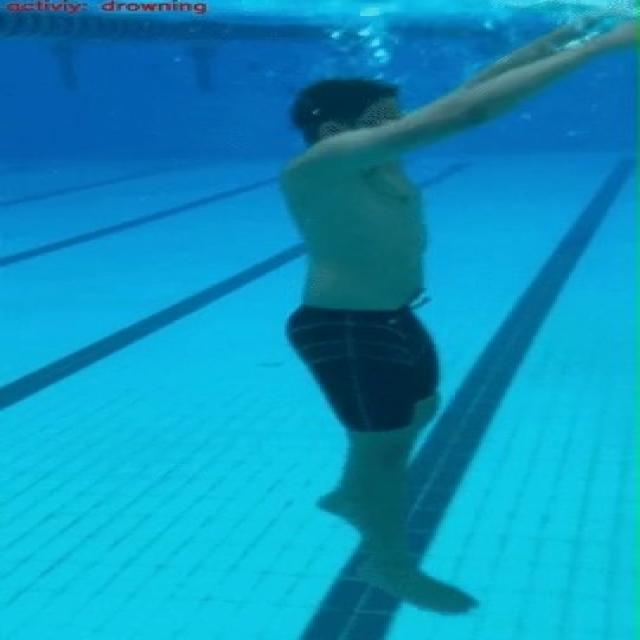Drowning: (272, 6, 640, 617)
